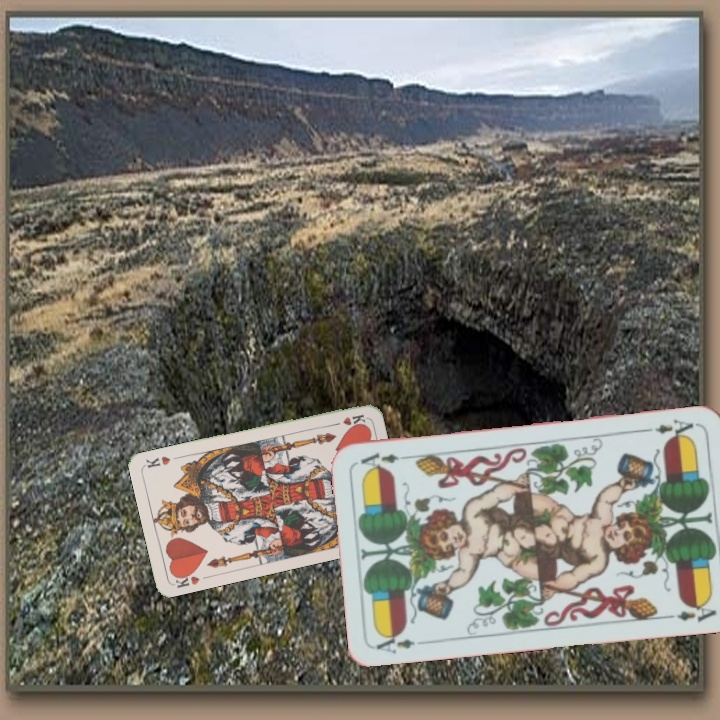EA: (642, 415, 696, 443), (372, 628, 418, 656)
HK: (327, 410, 368, 429), (170, 567, 202, 590)
